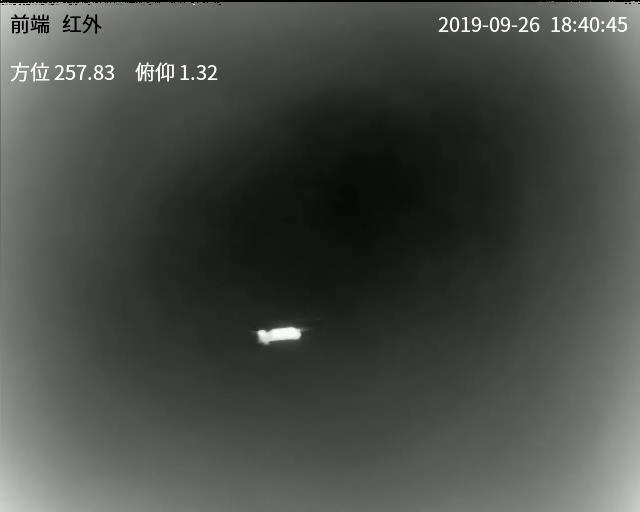uav: (247, 320, 313, 346)
